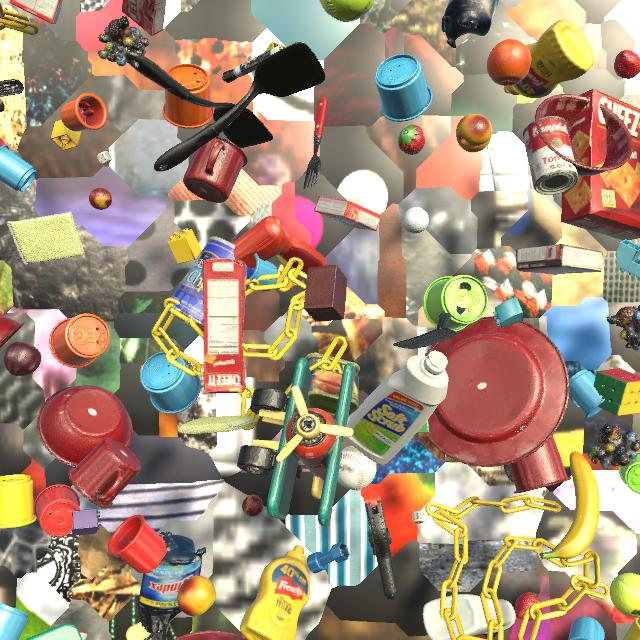ycb_002_master_chef_can: (170, 236, 256, 331)
ycb_003_cracker_box: (561, 89, 640, 240), (202, 258, 247, 394)
ycb_005_tomato_soup_can: (523, 116, 578, 195)
ycb_006_mustard_bottle: (504, 19, 595, 98), (240, 545, 311, 640)
ycb_008_pudding_box: (516, 244, 603, 275)
ycb_009_gelatin_box: (314, 196, 382, 231), (122, 0, 166, 36), (9, 0, 63, 24)
ycb_010_potted_meat_can: (305, 353, 360, 417)
ycb_011_banana: (540, 451, 600, 559)
ycb_012_strawberry: (398, 124, 425, 155), (515, 592, 542, 621), (614, 50, 640, 79)
ycb_015_peach: (177, 575, 216, 616), (456, 114, 492, 153)
ycb_017_orange: (487, 39, 531, 86)
ycb_018_plum: (3, 341, 41, 376)
